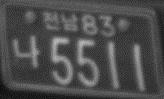1: (104, 40, 123, 92), (131, 42, 147, 92)
3: (98, 15, 116, 38)
5: (75, 38, 101, 88), (48, 36, 74, 85)
8: (81, 12, 99, 37)
나: (11, 34, 40, 68)
전남_O: (42, 9, 79, 34)
